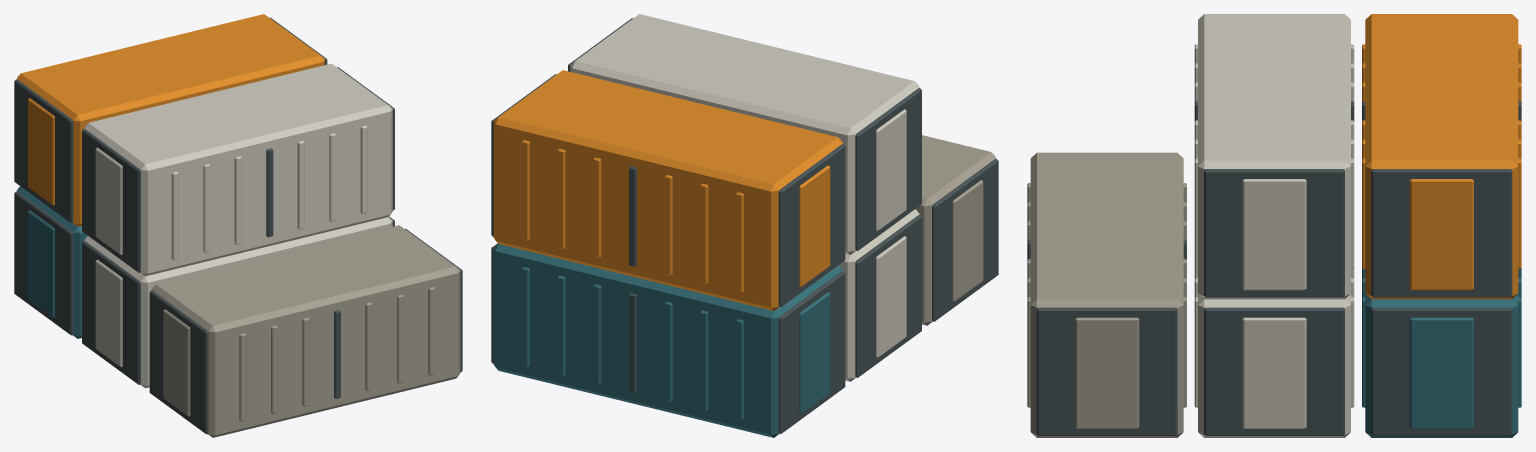
Rendered from fh_container_row_b.glb.
3 views of the same model, side by side, from view 1: azimuth 30°, elevation 25°; view 2: azimuth 150°, elevation 25°; view 3: azimuth 270°, elevation 25° (orthographic). The views are drawn at different scales.
Parts seen in each view (by area): view 1: fh_container_row_b; view 2: fh_container_row_b; view 3: fh_container_row_b.
Boxes of the visible parts, left/top/right/bottom form: fh_container_row_b: left=14, top=14, right=462, bottom=437; fh_container_row_b: left=491, top=14, right=998, bottom=437; fh_container_row_b: left=1027, top=14, right=1521, bottom=437.
Size of the model in its own units: 2.07 by 1.7 by 2.75.
